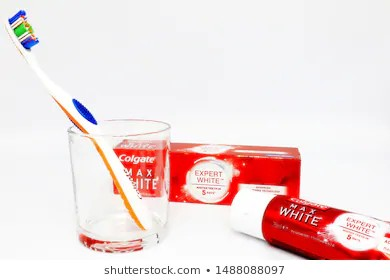toothbrush: (5, 5, 151, 236)
